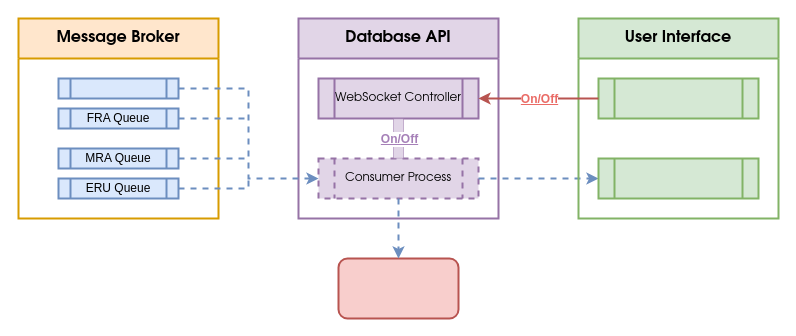
Image size: 796x336. Some labels were removed from this diagram. The centre of each missing label's shape, as x and y in pixels:
"End Data Consumer" goes at point (678, 178).
"MEA Queue" goes at point (118, 88).
"Redis Database" goes at point (398, 288).
"Start/Stop Connection Controller" goes at point (678, 98).
